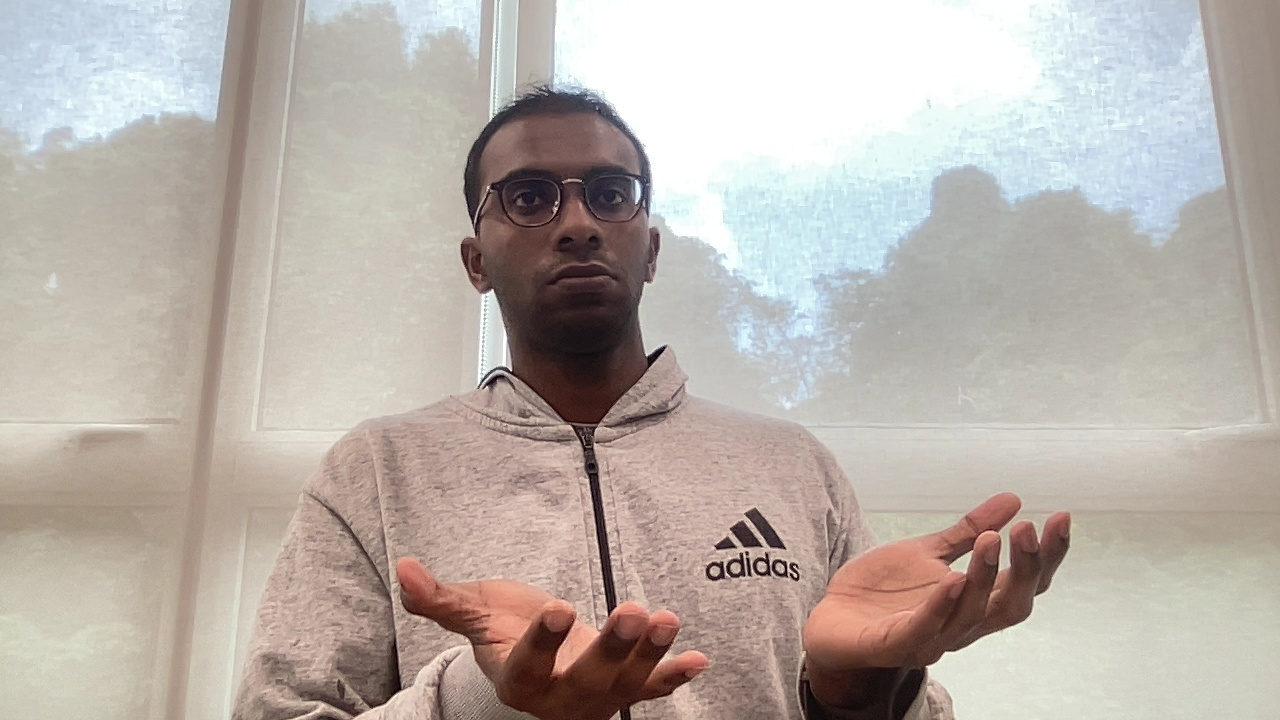give: (384, 483, 1082, 720)
